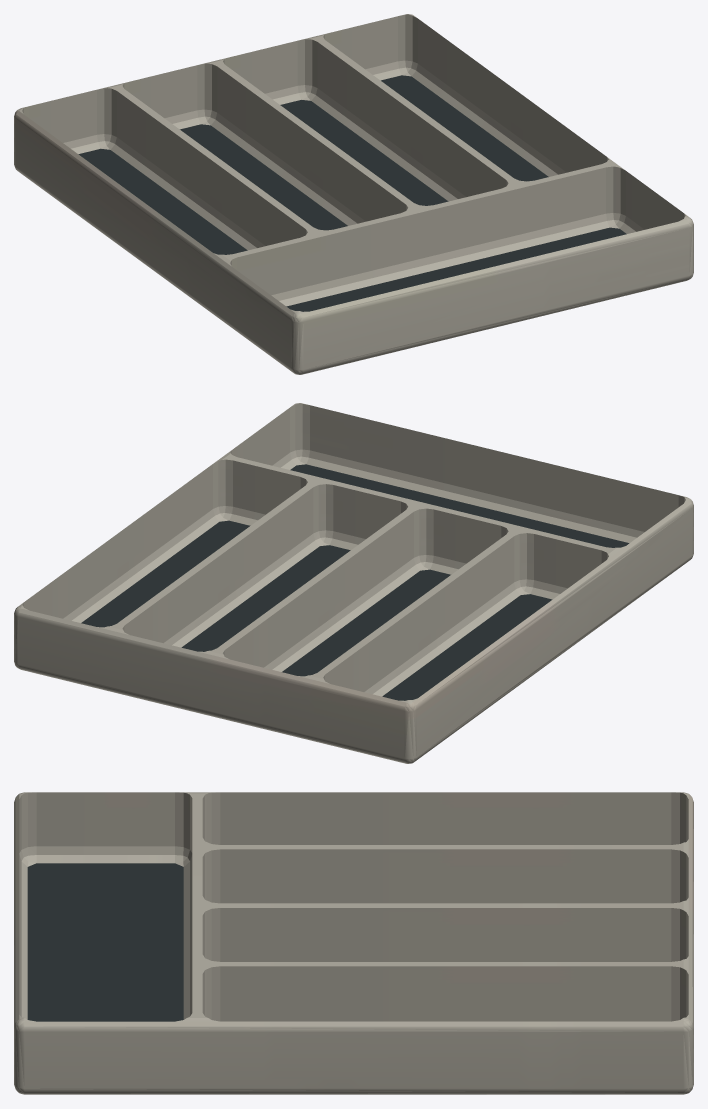
Rendered from cutlery_utensils__cutlery_organizer.glb.
3 renders of one model, top to bottom at view 1: azimuth 30°, elevation 25°; view 2: azimuth 150°, elevation 25°; view 3: azimuth 270°, elevation 25°, orthographic. The views are drawn at different scales.
Parts seen in each view (by area): view 1: body; view 2: body; view 3: body.
Boxes of the visible parts, box(x1,y1,x2,y2) form: body: box(14, 14, 693, 374); body: box(14, 403, 693, 763); body: box(14, 792, 693, 1094).
Size of the model in its own units: 0.318 by 0.048 by 0.391.
Materials: 2 (1 with a texture image).
